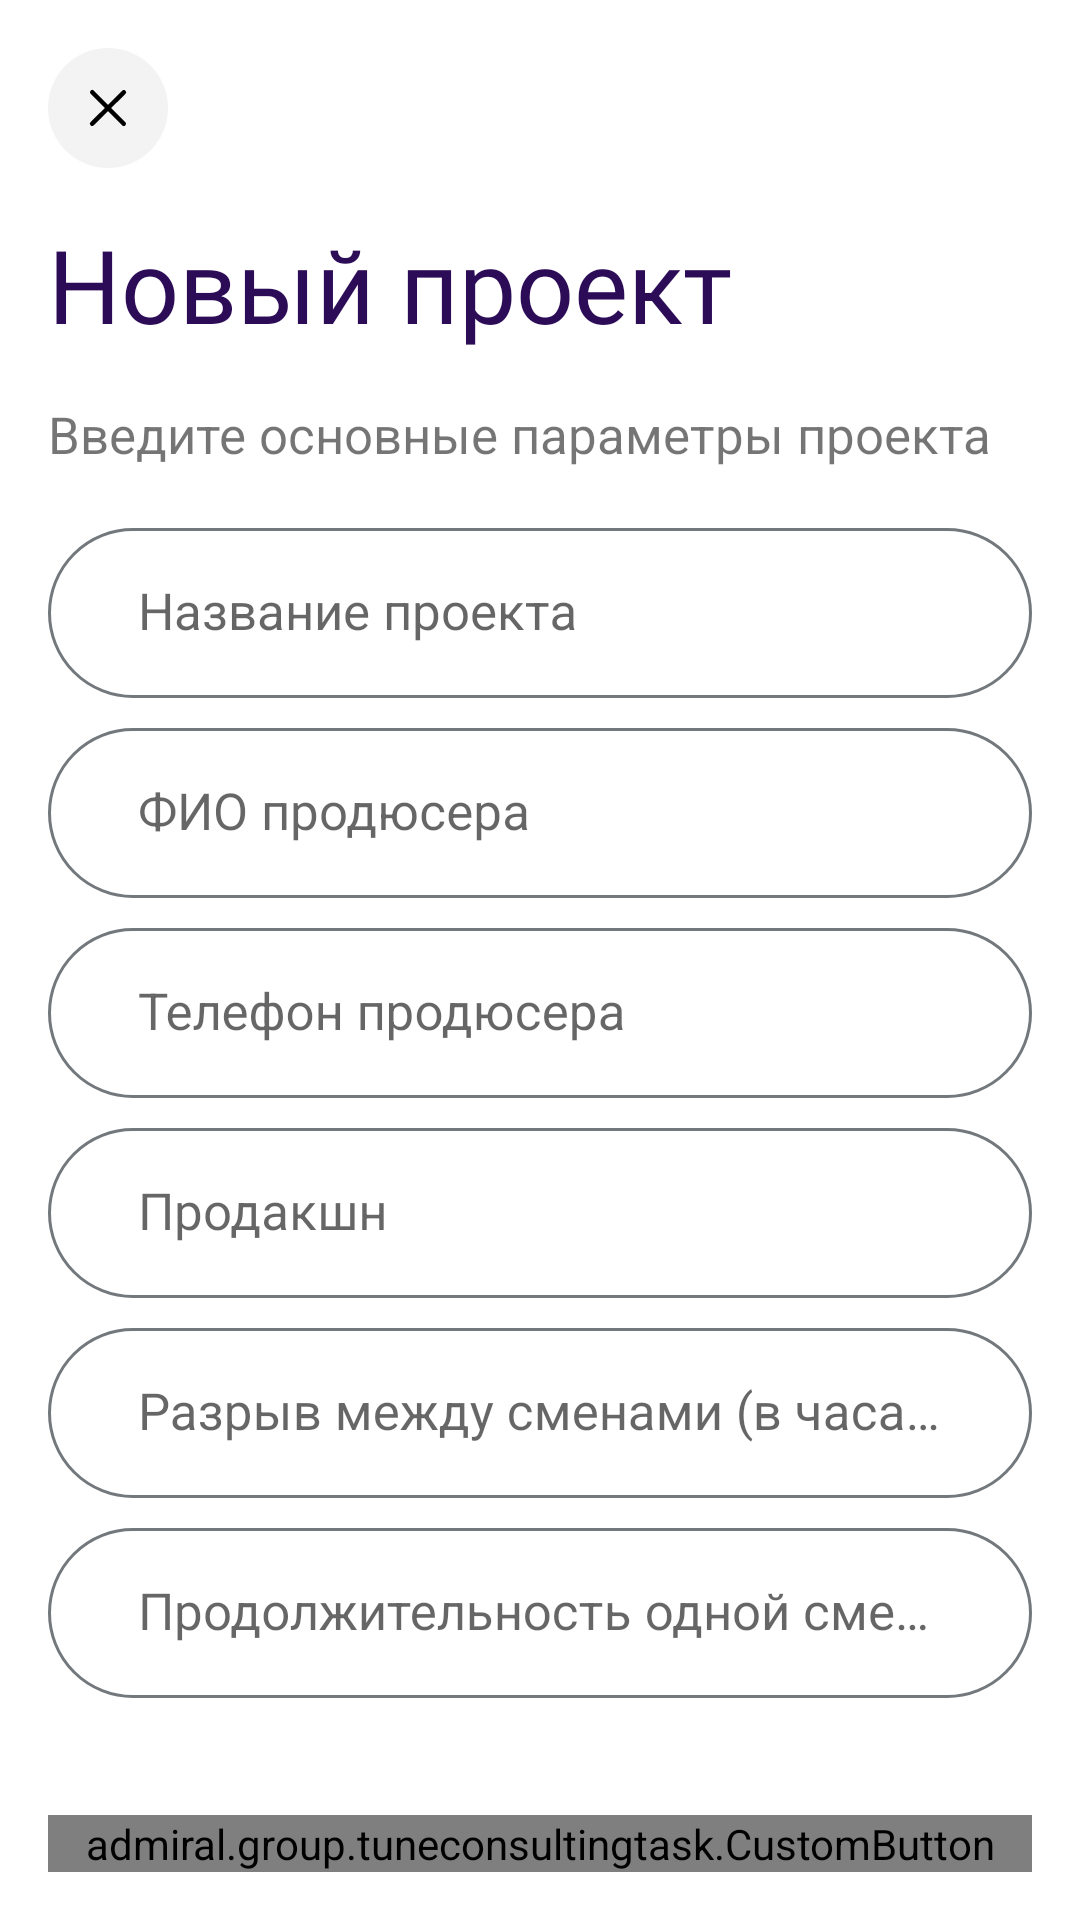

Icons on this 1080*1920 Android screen, each with its box as [x1,y1,x2,y2]:
close: [48,48,168,168]
